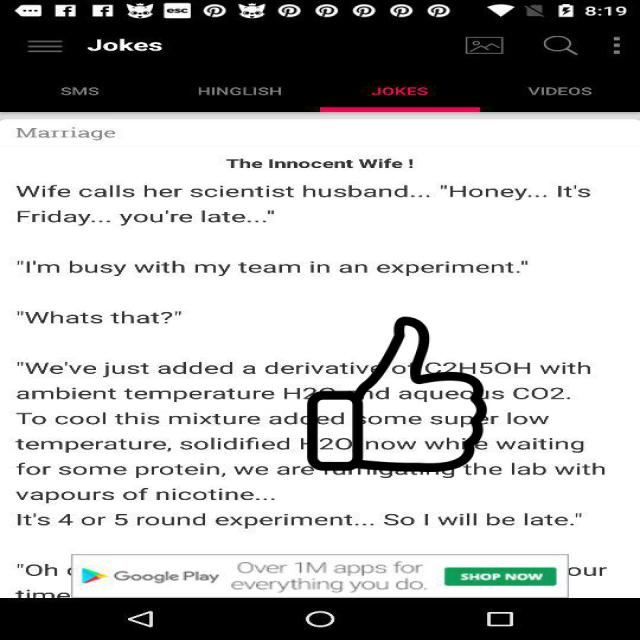privacy zuckering: (304, 317, 490, 472)
